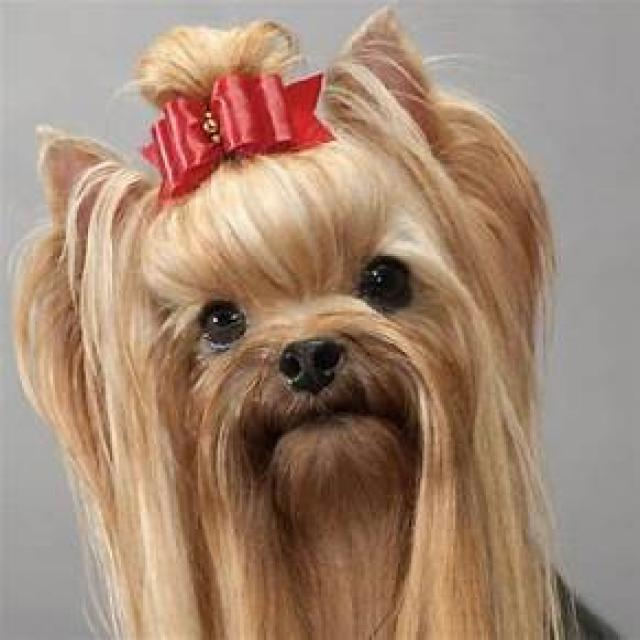dog: (9, 6, 594, 640)
